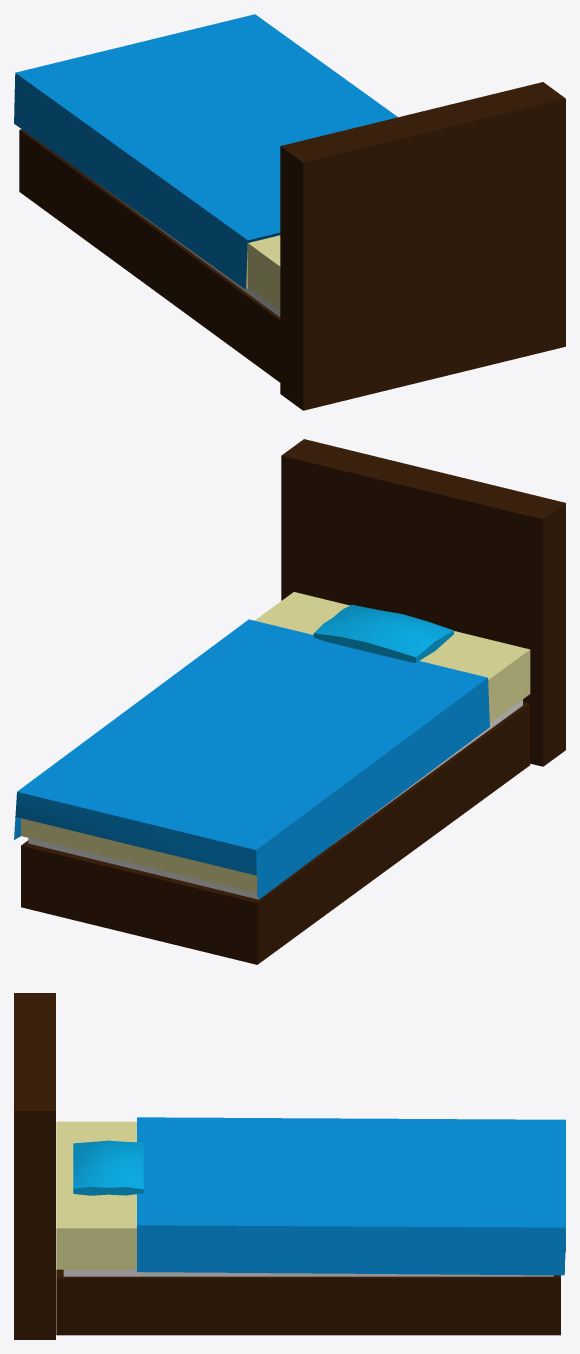
File: bed (1).fbx
The picture shows the model from 3 angles, top to bottom: view 1: azimuth 30°, elevation 25°; view 2: azimuth 150°, elevation 25°; view 3: azimuth 270°, elevation 25°; orthographic projection. The views are drawn at different scales.
Parts seen in each view (by area): view 1: Cube.003, Cube.005, Cube, Cube.002, Cube.001; view 2: Cube.005, Cube.003, Cube, Cube.002, Cube.004, Cube.001; view 3: Cube.005, Cube, Cube.003, Cube.002, Cube.004, Cube.001.
Part boxes in pixels (x1,y1,x2,y2): Cube.003: (280, 82, 565, 410); Cube.005: (14, 14, 397, 289); Cube: (19, 129, 280, 382); Cube.002: (246, 235, 280, 310); Cube.001: (90, 178, 280, 316); Cube.005: (14, 619, 489, 899); Cube.003: (281, 439, 565, 766); Cube: (21, 701, 530, 964); Cube.002: (21, 592, 530, 893); Cube.004: (313, 604, 453, 662); Cube.001: (28, 699, 522, 899); Cube.005: (137, 1117, 565, 1275); Cube: (56, 1269, 560, 1335); Cube.003: (14, 993, 55, 1339); Cube.002: (56, 1121, 136, 1269); Cube.004: (73, 1140, 143, 1195); Cube.001: (63, 1269, 553, 1276).
Size of the model in its own units: 222 by 201 by 438.
